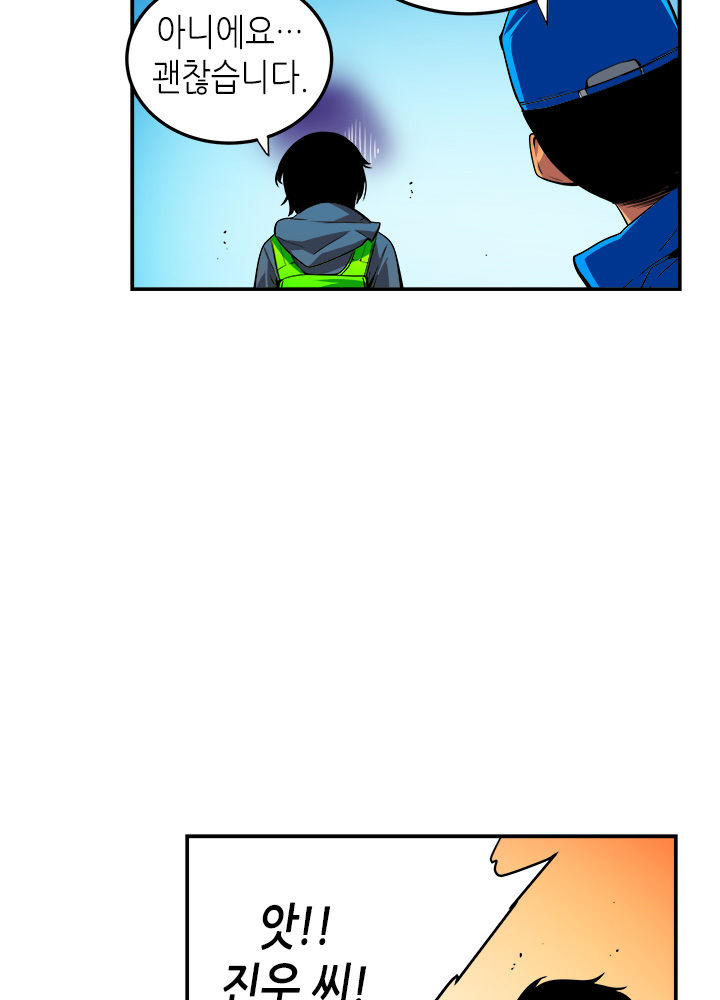dialog box: (150, 804, 568, 1000), (83, 1, 360, 175)
text: (190, 869, 387, 1000), (122, 1, 327, 121)
